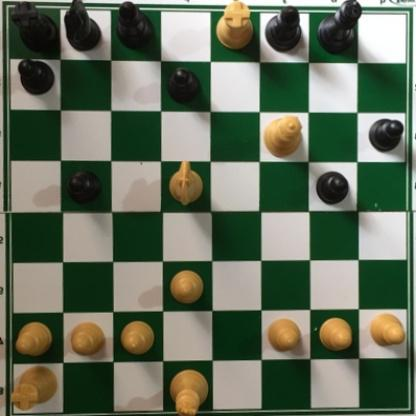black-bishop: (264, 3, 303, 54), (115, 1, 154, 52)
black-king: (318, 1, 365, 57)
black-knight: (62, 1, 102, 54)
black-pawn: (15, 56, 57, 96), (168, 65, 203, 106), (368, 115, 406, 152), (67, 167, 103, 204), (315, 167, 350, 204)
black-rook: (12, 1, 61, 54)
white-king: (165, 368, 210, 416)
white-knight: (167, 158, 204, 208)
white-pawn: (118, 317, 157, 356), (69, 320, 108, 359), (367, 310, 408, 345), (319, 313, 354, 354), (16, 318, 56, 353), (167, 270, 206, 305), (267, 315, 302, 353)
white-queen: (264, 113, 304, 156)
white-rook: (12, 362, 60, 411), (220, 1, 255, 53)
